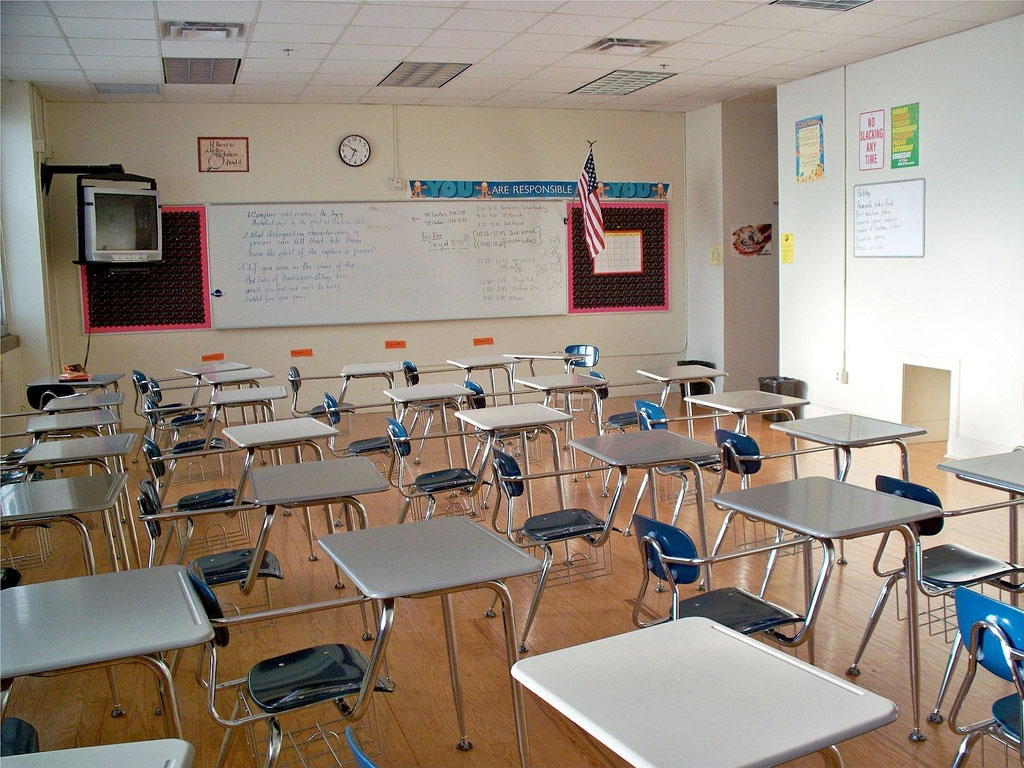desk: (494, 589, 910, 767), (300, 493, 549, 649)
